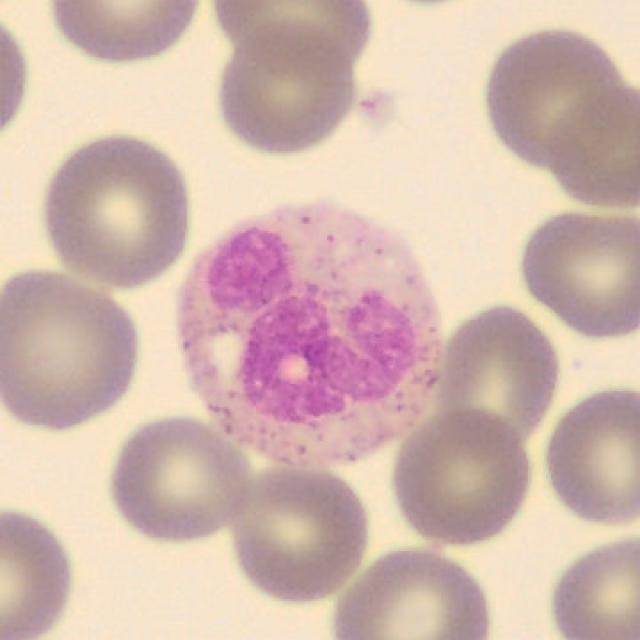Neutrofilo segmentado: (178, 201, 443, 473)
